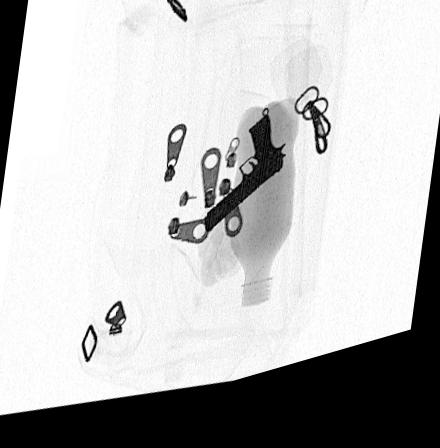Gun: (200, 131, 287, 245)
